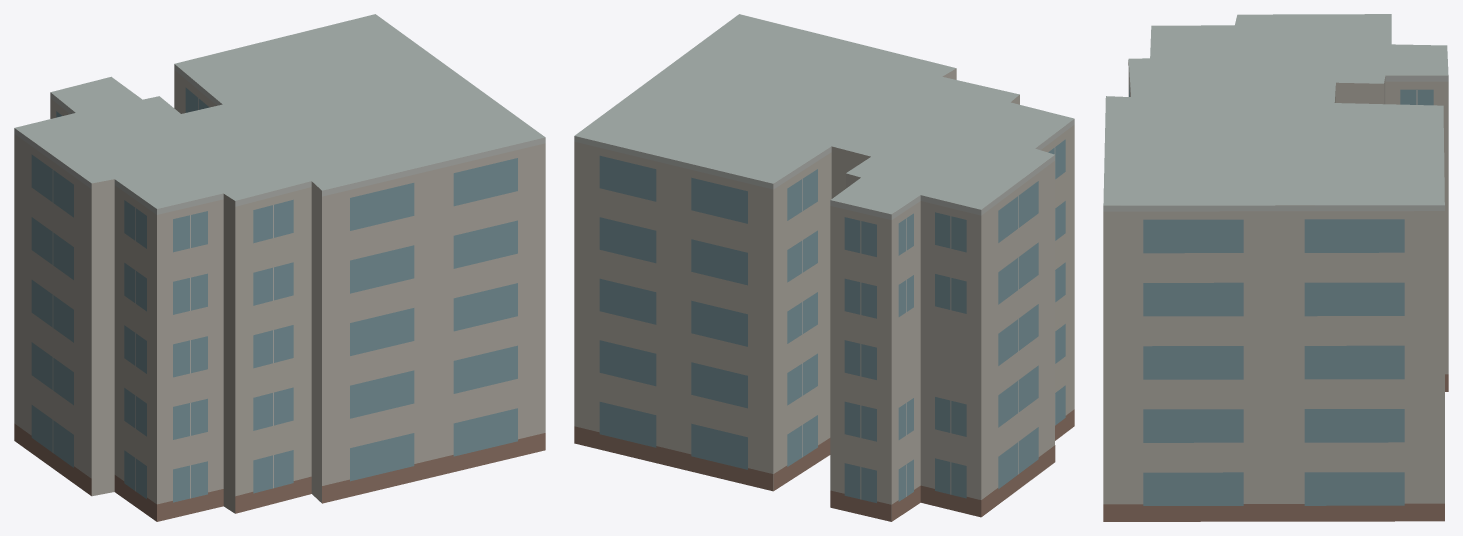
The model's file is survey-upis-32729267.glb.
3 renders of one model, left to right at view 1: azimuth 30°, elevation 25°; view 2: azimuth 150°, elevation 25°; view 3: azimuth 270°, elevation 25°, orthographic. The views are drawn at different scales.
Parts seen in each view (by area): view 1: survey-upis-32729267.tmp; view 2: survey-upis-32729267.tmp; view 3: survey-upis-32729267.tmp.
Part boxes in pixels (x1,y1,x2,y2): survey-upis-32729267.tmp: (14,14,545,521); survey-upis-32729267.tmp: (574,14,1074,521); survey-upis-32729267.tmp: (1103,14,1448,521).
Size of the model in its own units: 16.92 by 13 by 12.87.
